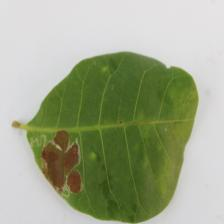leaf miner: (39, 127, 90, 197)
